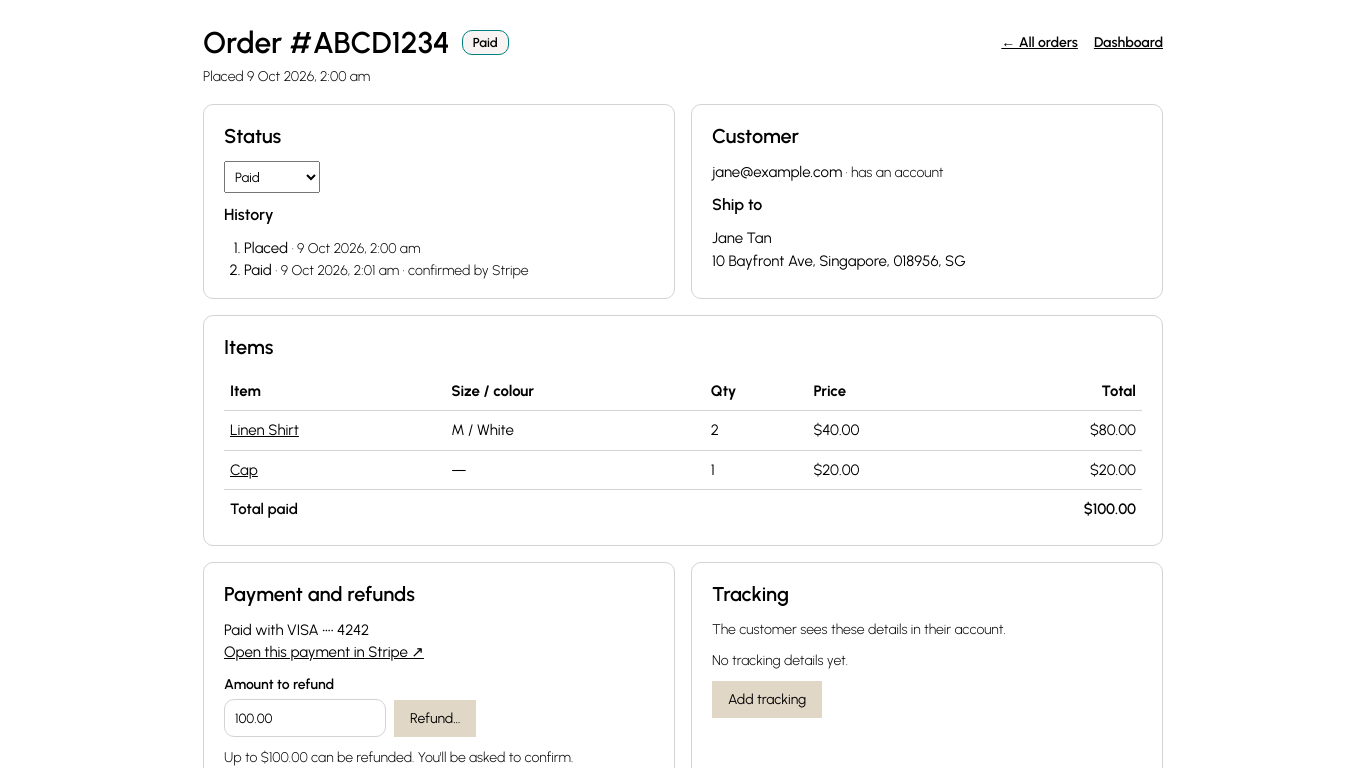
AdminOrderDetail › changes the status and adds it to the history
This screenshot has width=1366, height=768.
Select "Processing" in the dropdown named "Status for order ABCD1234". click: point(272, 176)
box: [224,160,320,192]
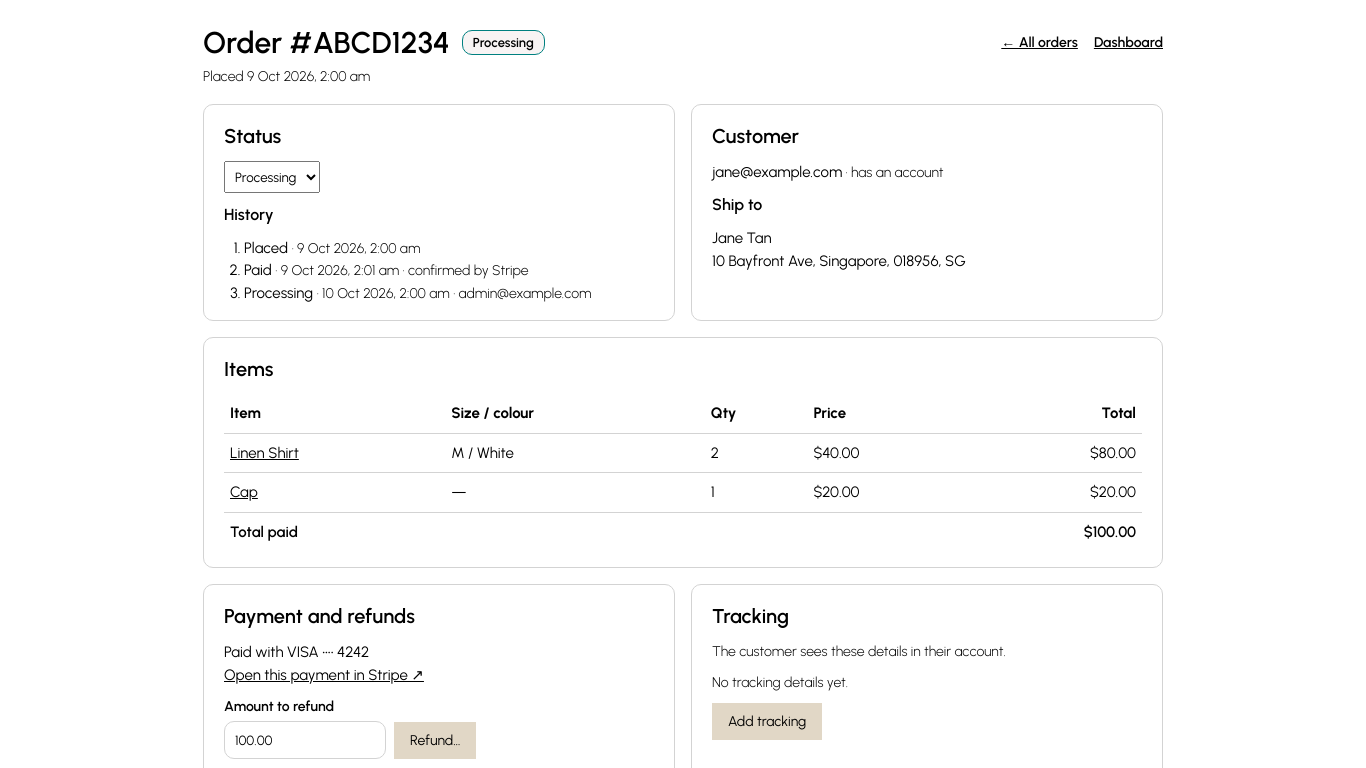
Expected: the element "Status" shows "admin@example.com", [450,284,592,302]
